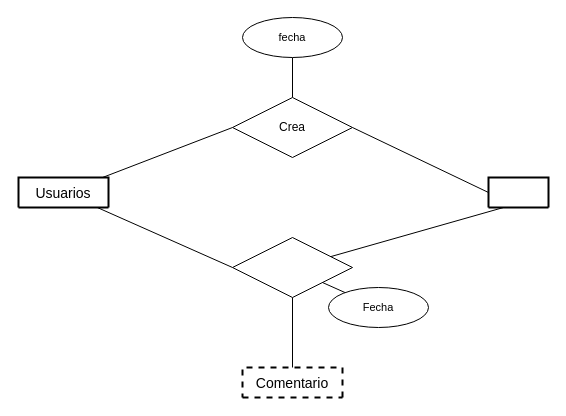
The diagram is 566 pixels wide and 416 high, and some of its shapes have lost their labels. The shapes that lost their labels are listed below. From the top down, each one's box as (x1, y1, x2, y2) in pixels, then its label:
(487, 176, 549, 208): Hilo
(232, 236, 352, 298): Contesta
